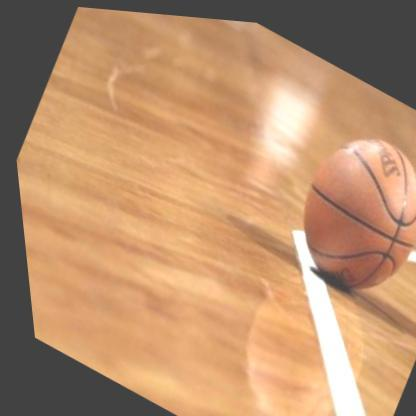basketball: (267, 99, 416, 312)
